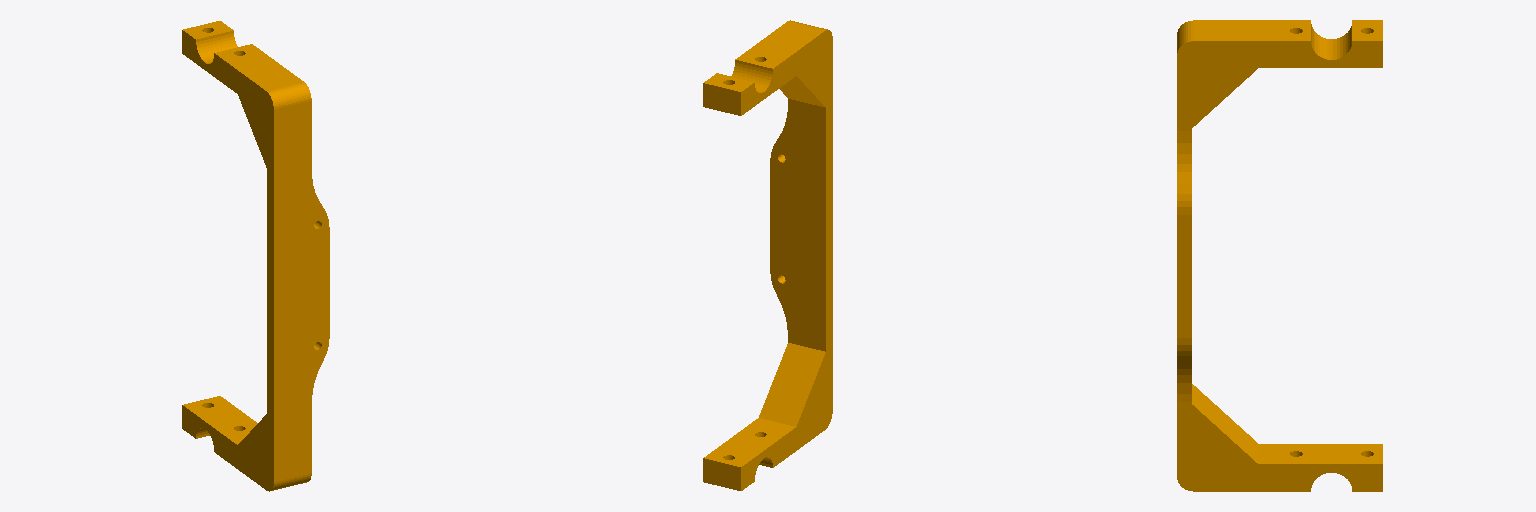
robot.urdf — object:
<?xml version="1.0"?>
<robot name="object">
  <link name="object">
    <visual>
      <origin xyz="0 0 0"/>
      <geometry>
        <mesh filename="../mesh/part.obj"/>
      </geometry>
    </visual>
    <collision>
      <origin xyz="0 0 0"/>
      <geometry>
        <mesh filename="../mesh/part.obj"/>
      </geometry>
    </collision>
  </link>
</robot>

--- What the picture shows (computed from the rendered views, not written in the file) ---
Views: 3 orthographic renders of the robot side by side, from view 1: azimuth 30°, elevation 25°; view 2: azimuth 150°, elevation 25°; view 3: azimuth 270°, elevation 25°.
Model object with 1 links and 0 joints (none), rooted at object, posed all joints at 0.
Visible links, largest first — view 1: object; view 2: object; view 3: object.
Boxes of the visible links, x1,y1,x2,y2 form: object: (182, 21, 329, 491); object: (703, 20, 832, 490); object: (1177, 20, 1382, 491).
Bounding box of the posed robot: 0.218 × 0.6192 × 1.49 m (x, y, z).
1 mesh visuals loaded from 1 distinct referenced files (1 OBJ).